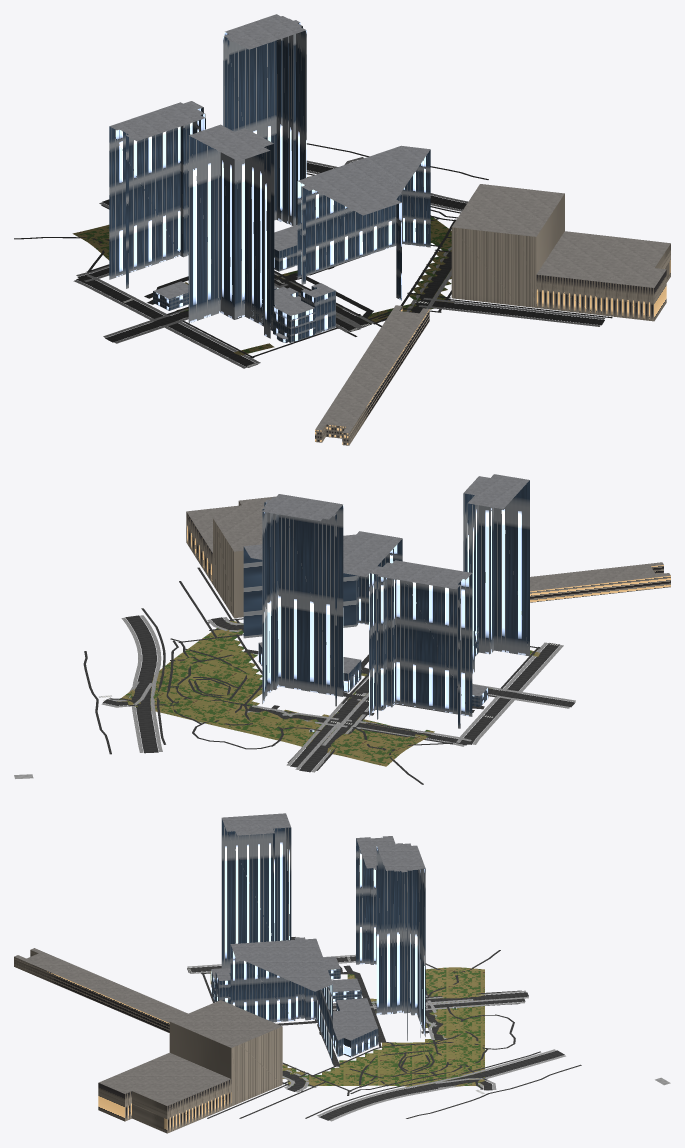
Rendered from tile_40_-38.gltf.
3 views of the same model, one above another, from view 1: azimuth 30°, elevation 25°; view 2: azimuth 150°, elevation 25°; view 3: azimuth 270°, elevation 25° (orthographic). The views are drawn at different scales.
Parts seen in each view (by area): view 1: Buildings_col, Roads, Sidewalks, Terrain_col; view 2: Buildings_col, Terrain_col, Roads, Sidewalks; view 3: Buildings_col, Terrain_col, Roads, Sidewalks.
Boxes of the visible parts, bbox=[...] form: Buildings_col: bbox=[109, 14, 670, 445]; Roads: bbox=[14, 143, 612, 367]; Sidewalks: bbox=[73, 157, 604, 368]; Terrain_col: bbox=[72, 176, 452, 355]; Buildings_col: bbox=[186, 474, 670, 731]; Terrain_col: bbox=[117, 621, 540, 766]; Roads: bbox=[83, 567, 575, 784]; Sidewalks: bbox=[101, 615, 575, 772]; Buildings_col: bbox=[14, 813, 456, 1133]; Terrain_col: bbox=[210, 967, 484, 1086]; Roads: bbox=[187, 937, 581, 1120]; Sidewalks: bbox=[187, 937, 565, 1121].
Bounding box in the file's own units: 434 × 176 × 613.
Materials: 8 (8 with a texture image).
